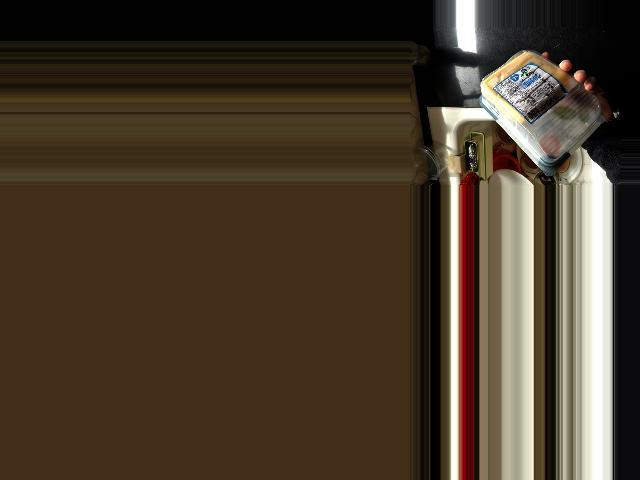cheese: (478, 57, 603, 157)
